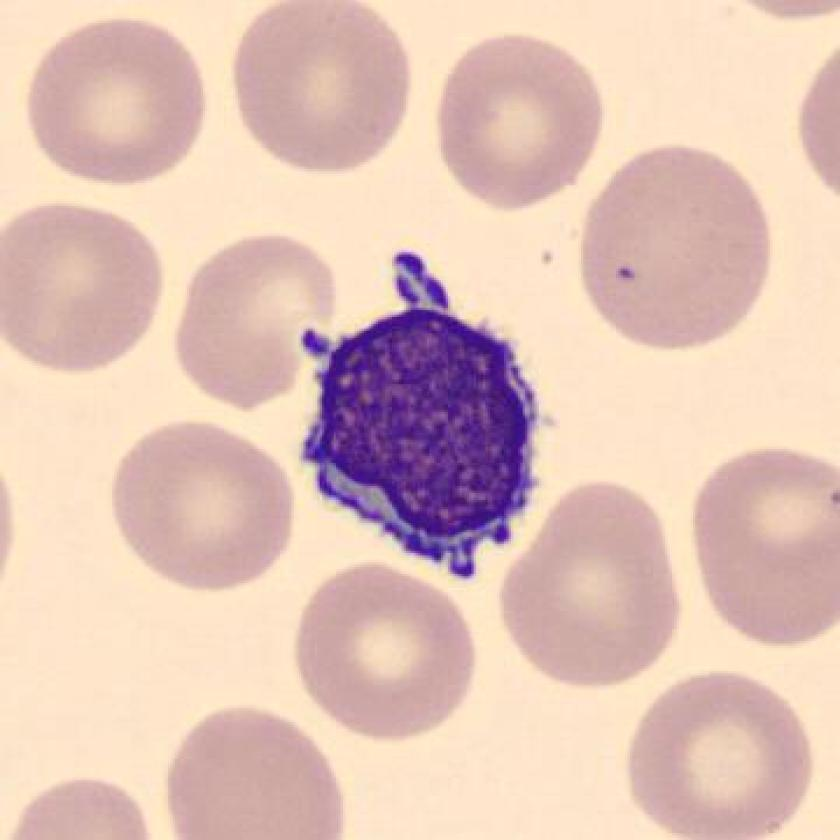lymphocyte: (272, 237, 570, 596)
